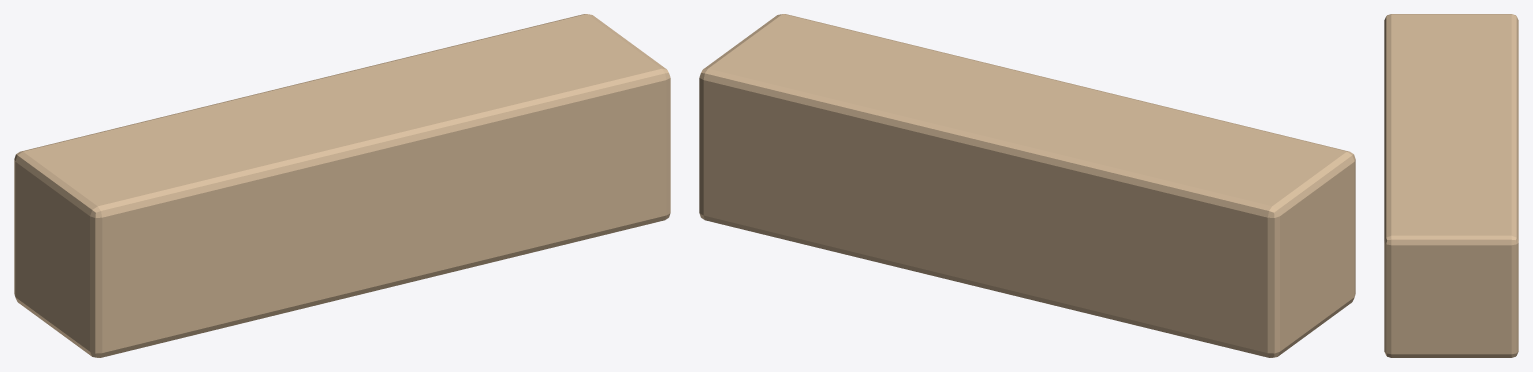
The model's file is toy_plank.glb.
3 renders of one model, left to right at view 1: azimuth 30°, elevation 25°; view 2: azimuth 150°, elevation 25°; view 3: azimuth 270°, elevation 25°, orthographic. The views are drawn at different scales.
Parts seen in each view (by area): view 1: toy_plank; view 2: toy_plank; view 3: toy_plank.
Boxes of the visible parts, <box> form: toy_plank: <box>14,14,670,357</box>; toy_plank: <box>699,14,1355,357</box>; toy_plank: <box>1384,14,1518,357</box>.
Size of the model in its own units: 0.12 by 0.03 by 0.03.
